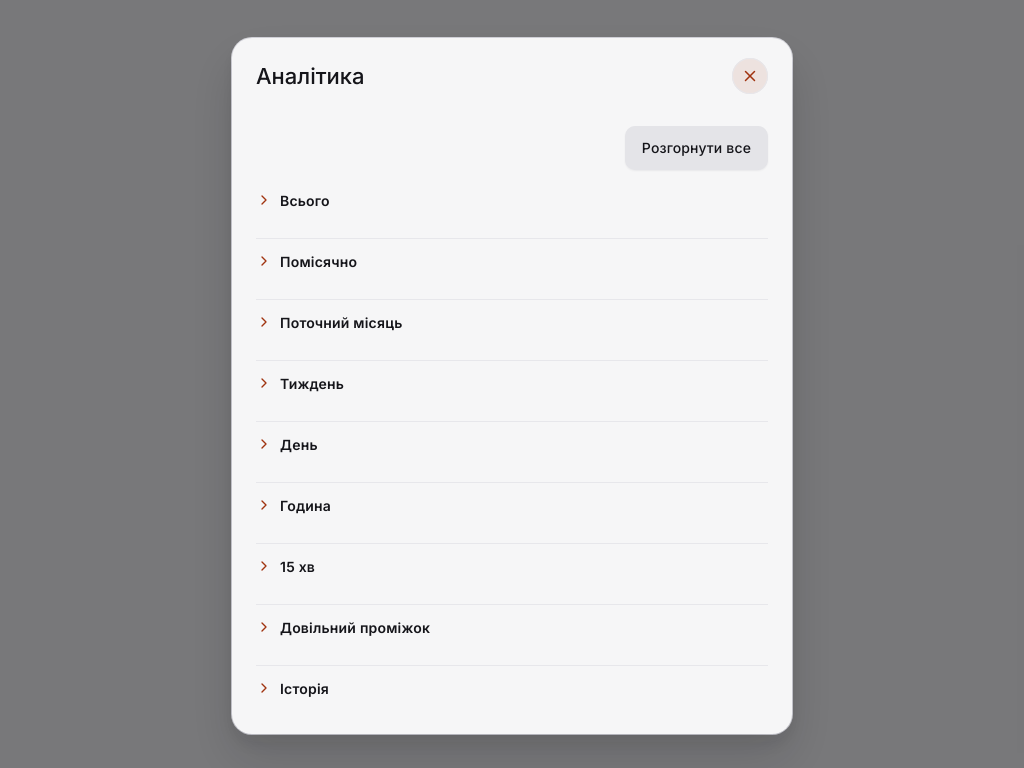
Test: акордеони періодів › «Всього» показує колонки років, підписи — у шапці зверху
The width and height of the screenshot is (1024, 768).
Click the button "Всього" at (305, 200), box [256,178,768,222]
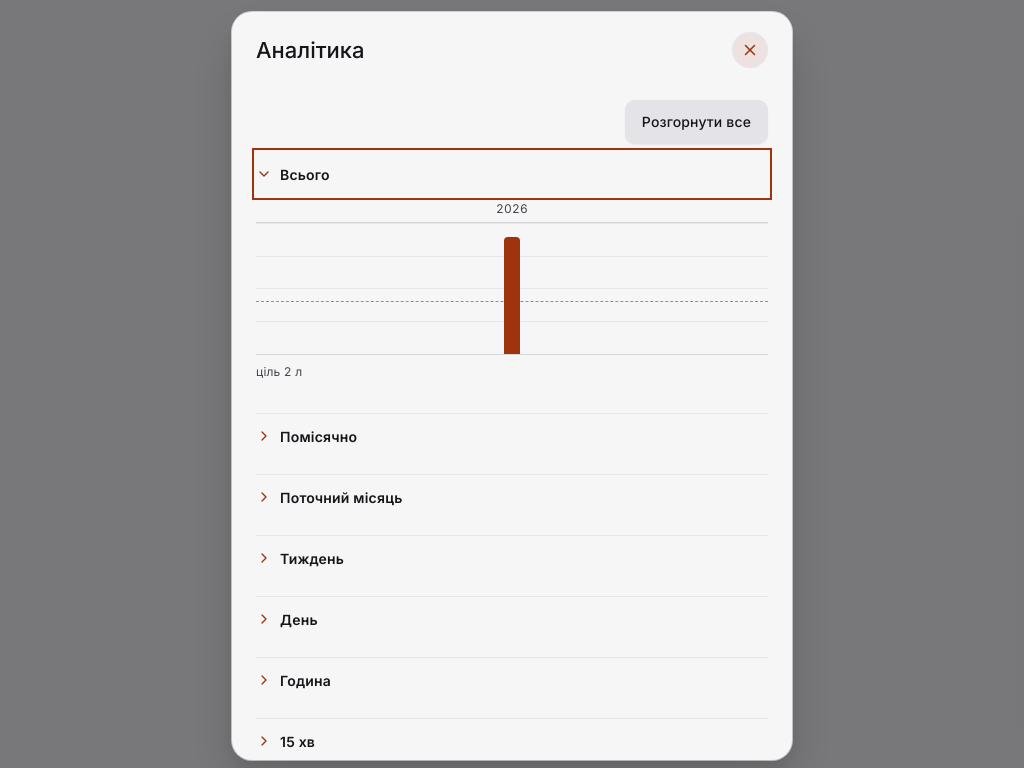
expect the text "2026" is shown: met, box [496,201,528,216]
expect the number of elements with class "wb-tp-bar" is 1: met, box [504,237,520,354]
